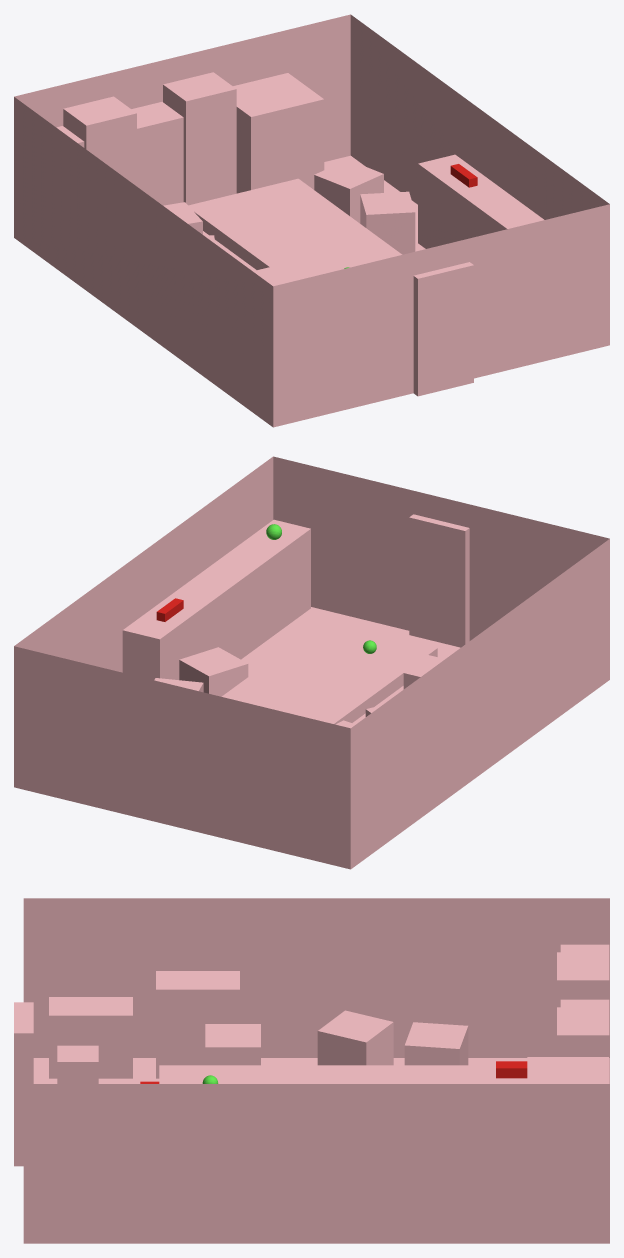
Rendered from whiteblocking_nivel2 (1).fbx.
3 views of the same model, one above another, from view 1: azimuth 30°, elevation 25°; view 2: azimuth 150°, elevation 25°; view 3: azimuth 270°, elevation 25° (orthographic). The views are drawn at different scales.
Parts seen in each view (by area): view 1: Plane; view 2: Plane; view 3: Plane.
Part boxes in pixels (left/top/right/bottom): Plane: left=14, top=14, right=609, bottom=427; Plane: left=14, top=456, right=609, bottom=869; Plane: left=14, top=898, right=609, bottom=1243.
Bounding box in the file's own units: 600 × 240 × 813.
